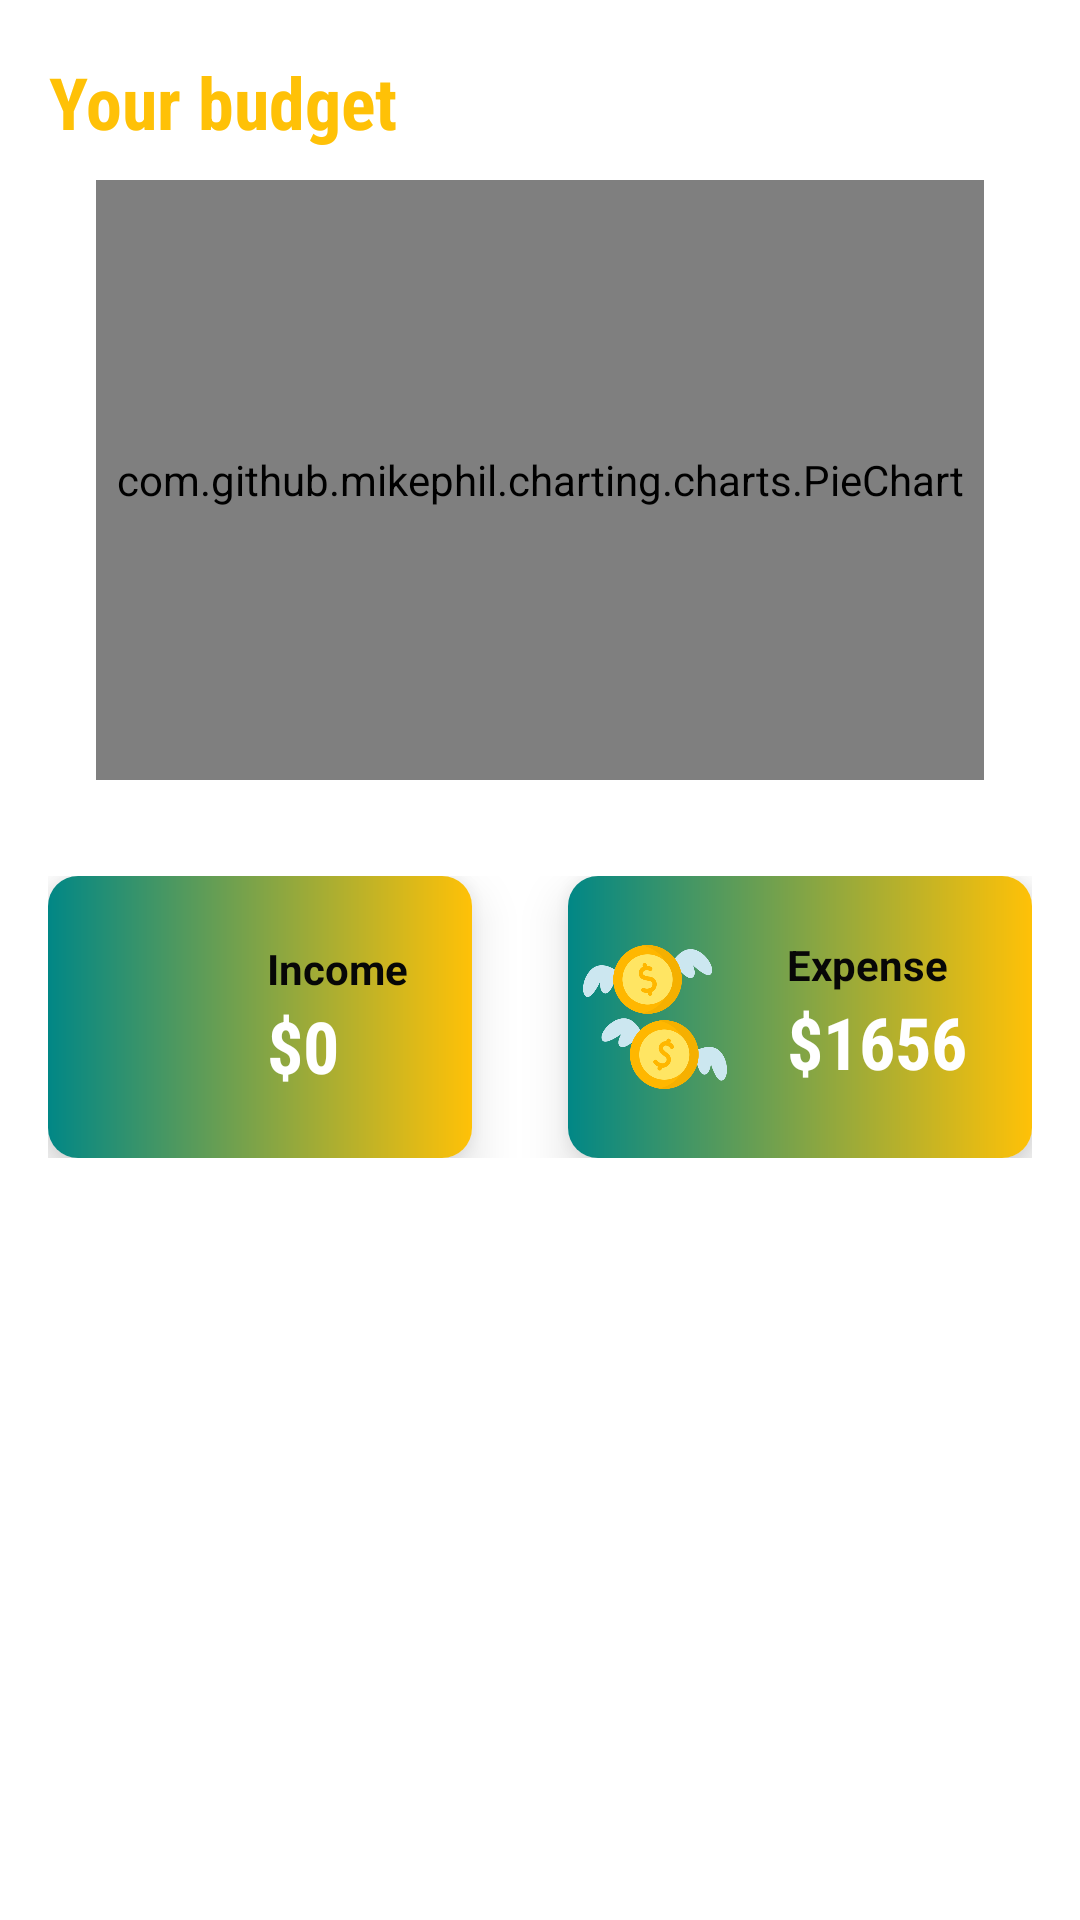

Screen size 1080 x 1920. Icon name, then its center in pixels as (x=x, y=y):
flyingmoney: (x=655, y=1017)
